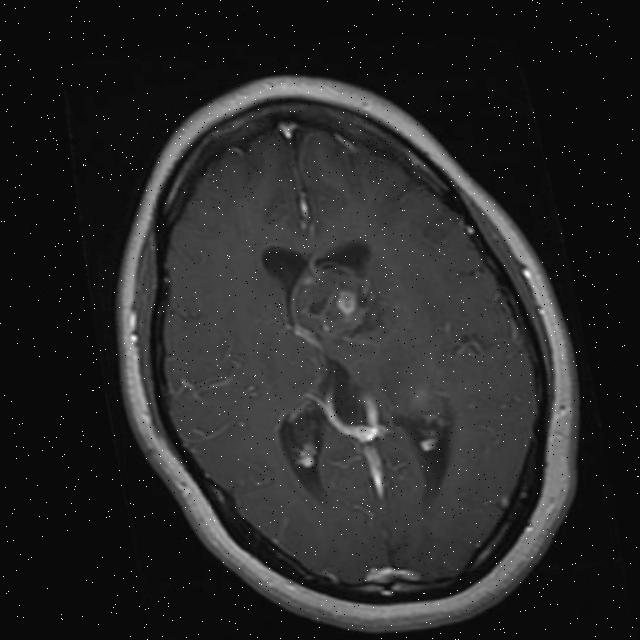Glioma: (280, 252, 390, 353)
